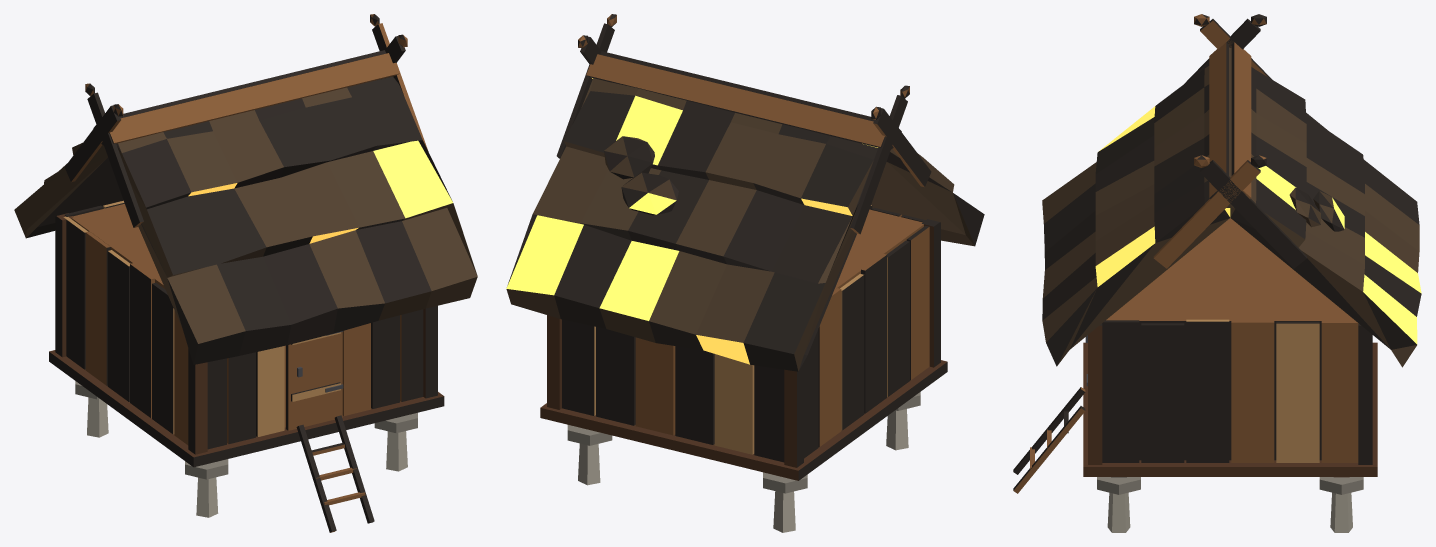
The model's file is Dorf_Kornspeicher_Beschaedigt.fbx.
3 renders of one model, left to right at view 1: azimuth 30°, elevation 25°; view 2: azimuth 150°, elevation 25°; view 3: azimuth 270°, elevation 25°, orthographic. The views are drawn at different scales.
Parts seen in each view (by area): view 1: Dorf_Kornspeicher_Beschaedigt; view 2: Dorf_Kornspeicher_Beschaedigt; view 3: Dorf_Kornspeicher_Beschaedigt.
Boxes of the visible parts, box(x1,y1,x2,y2) form: Dorf_Kornspeicher_Beschaedigt: box(14, 14, 477, 532); Dorf_Kornspeicher_Beschaedigt: box(506, 14, 984, 532); Dorf_Kornspeicher_Beschaedigt: box(1013, 14, 1421, 532).
Size of the model in its own units: 4.29 by 5.53 by 5.13.
